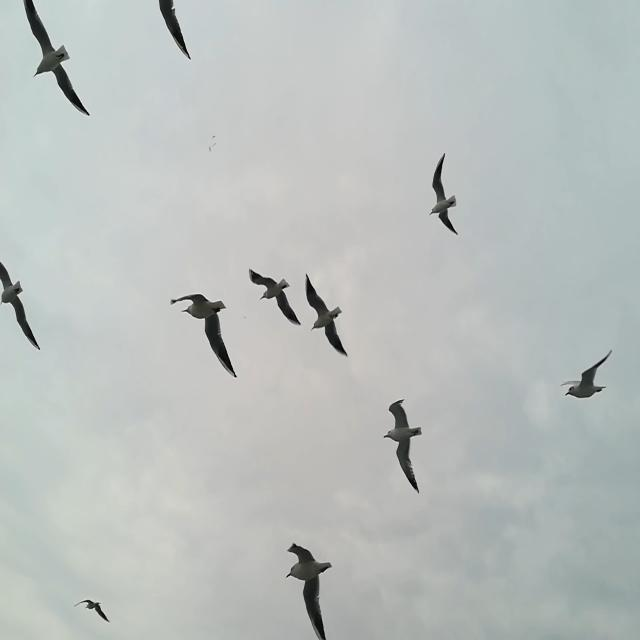bird: (22, 0, 91, 118), (171, 294, 239, 381), (286, 540, 332, 640), (304, 272, 349, 361), (383, 397, 423, 496), (0, 260, 41, 350), (248, 269, 302, 327), (558, 350, 614, 400), (429, 152, 459, 239), (157, 0, 192, 59), (74, 599, 112, 625), (208, 146, 212, 154), (212, 142, 216, 148), (212, 134, 216, 139)
